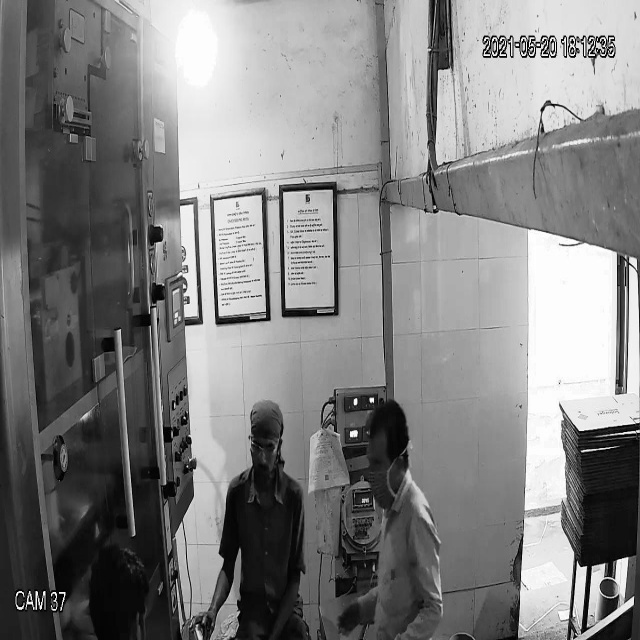Gafas: (242, 430, 286, 464)
Sin_gafas: (364, 451, 396, 478)
